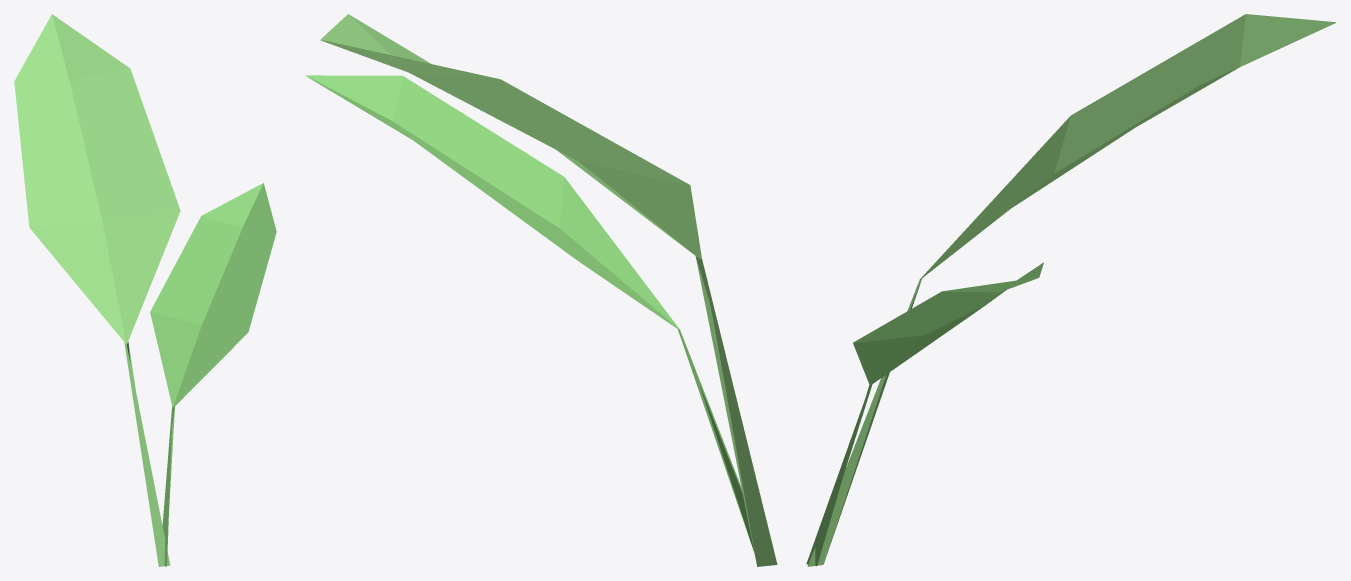
Rendered from Plant_j_TwoS_07.fbx.
The picture shows the model from 3 angles, left to right: view 1: azimuth 30°, elevation 25°; view 2: azimuth 150°, elevation 25°; view 3: azimuth 270°, elevation 25°; orthographic projection. The views are drawn at different scales.
Parts seen in each view (by area): view 1: Plant_j_TwoS_07; view 2: Plant_j_TwoS_07; view 3: Plant_j_TwoS_07.
Boxes of the visible parts, x1,y1,x2,y2 form: Plant_j_TwoS_07: (14,14,276,566); Plant_j_TwoS_07: (306,14,777,566); Plant_j_TwoS_07: (806,14,1335,566).
Size of the model in its own units: 14.02 by 24.22 by 19.75.
